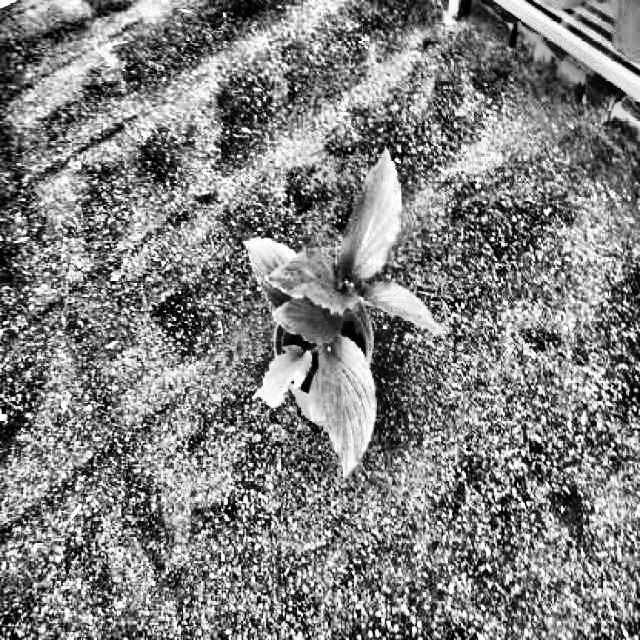plants: (245, 145, 444, 458)
